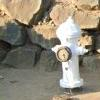a fire hydrant: (55, 20, 89, 90)
